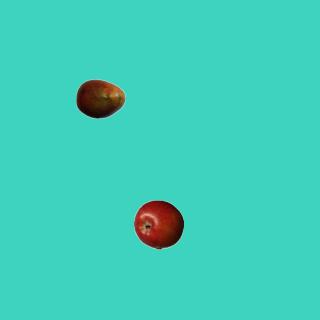Apple Braeburn: (133, 199, 183, 249)
Mango Red: (75, 73, 125, 123)
